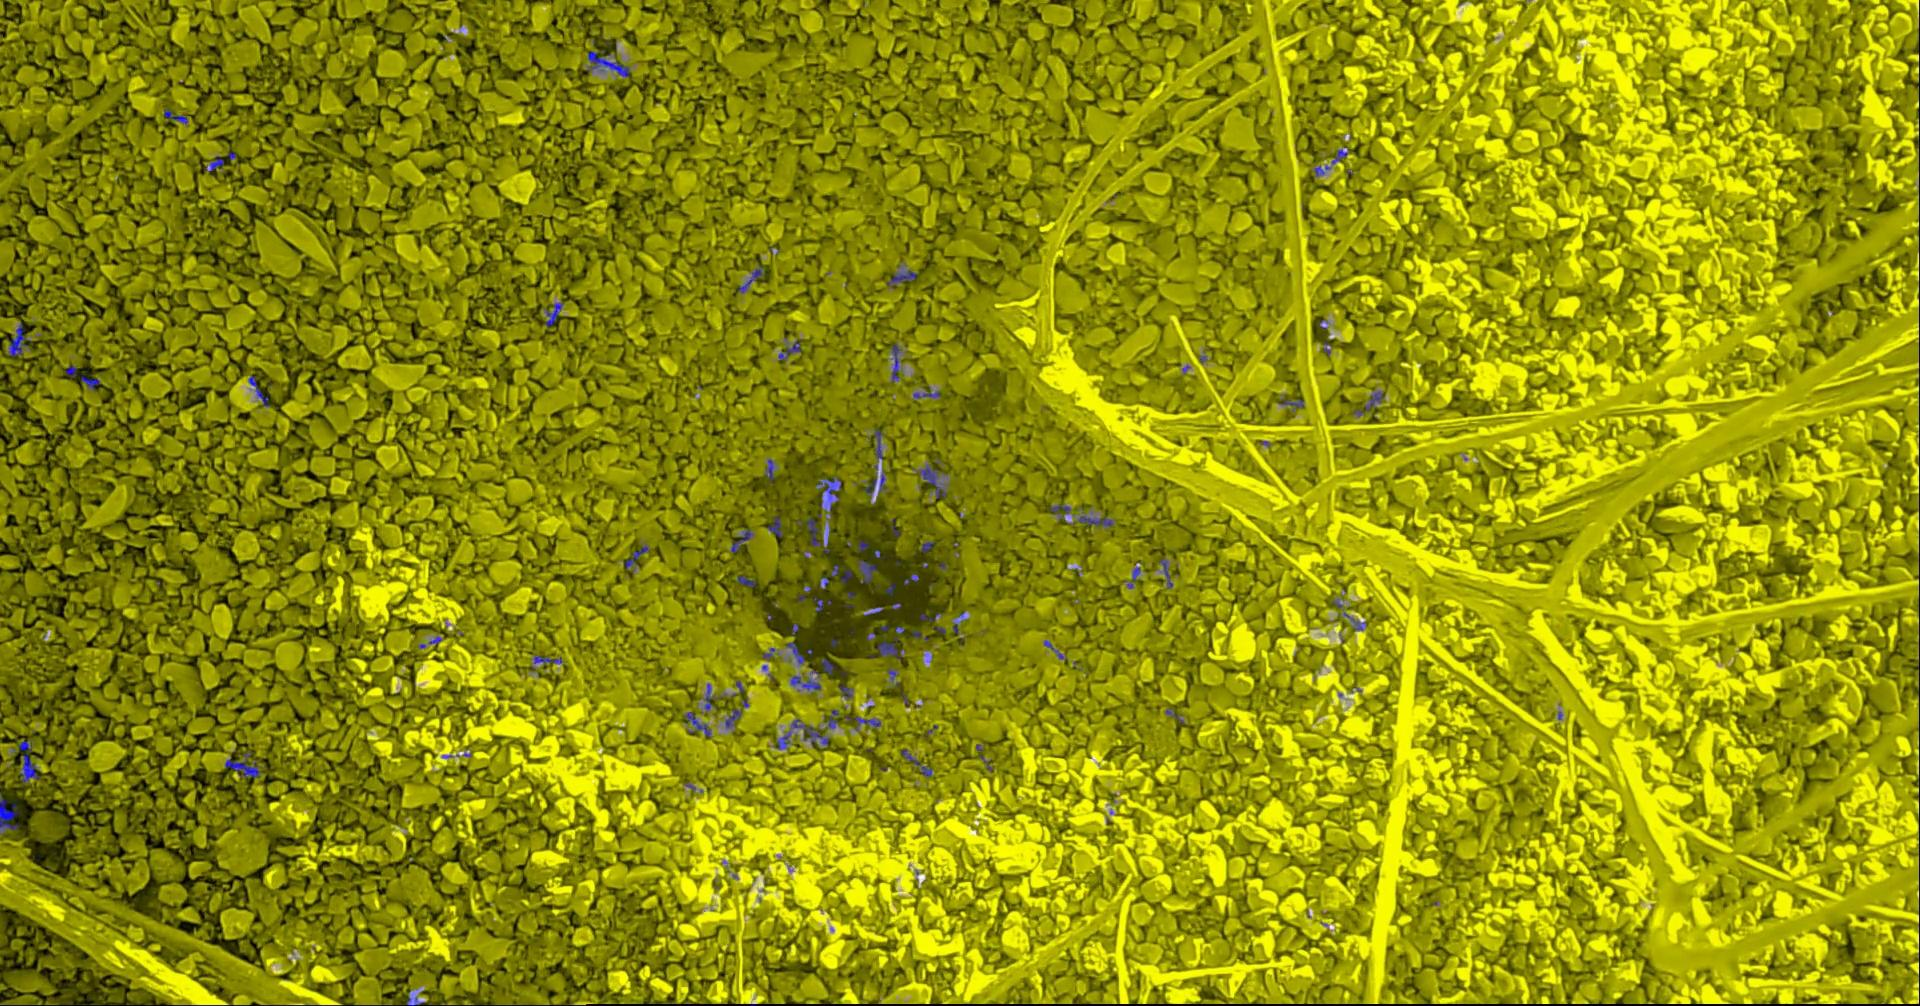ant: (817, 476, 841, 535), (790, 718, 829, 748), (587, 50, 629, 76), (223, 751, 262, 777), (876, 625, 904, 661), (918, 464, 946, 498), (17, 741, 39, 782), (806, 517, 829, 553), (0, 793, 19, 835), (1352, 391, 1383, 417), (1077, 506, 1112, 527), (8, 323, 29, 356), (737, 265, 763, 292), (248, 375, 269, 406), (623, 544, 648, 572), (683, 711, 711, 735), (888, 265, 916, 288), (863, 469, 885, 497), (730, 528, 753, 553), (790, 674, 820, 692), (844, 715, 880, 730), (975, 744, 993, 772), (777, 339, 801, 359), (857, 559, 877, 583), (543, 301, 563, 326), (1043, 639, 1065, 659), (531, 654, 561, 669), (1158, 558, 1172, 588), (786, 641, 804, 664), (891, 343, 902, 381), (703, 683, 717, 710), (1277, 398, 1303, 412), (724, 708, 742, 727), (775, 730, 792, 749), (163, 109, 187, 123), (1049, 504, 1070, 520), (204, 155, 223, 171), (900, 748, 919, 765), (767, 516, 782, 536), (872, 429, 883, 459), (80, 375, 99, 390), (811, 596, 830, 611), (1128, 567, 1140, 588), (1331, 149, 1349, 164), (912, 387, 938, 398), (825, 709, 838, 728), (764, 459, 775, 481), (820, 658, 834, 674), (737, 575, 756, 587), (838, 683, 852, 699), (405, 995, 425, 1005)
